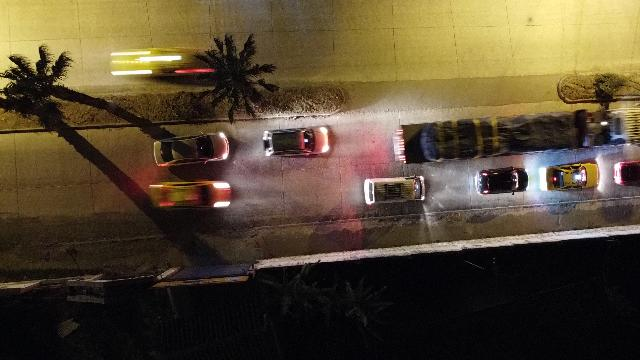Vehiculo: (153, 132, 229, 166), (148, 180, 232, 210), (362, 176, 428, 207), (262, 127, 330, 157), (541, 160, 599, 190), (475, 166, 529, 194), (613, 160, 639, 186)
